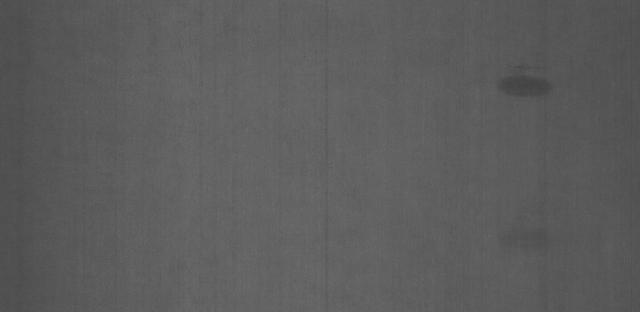oil_spot: (489, 68, 570, 102)
